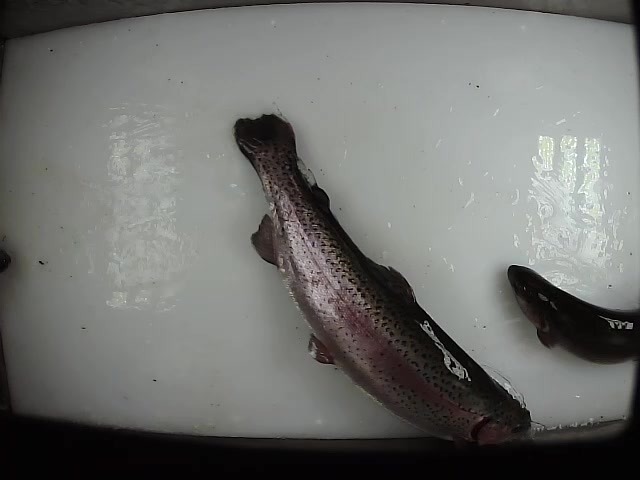fish: (233, 110, 535, 447), (506, 262, 640, 368)
